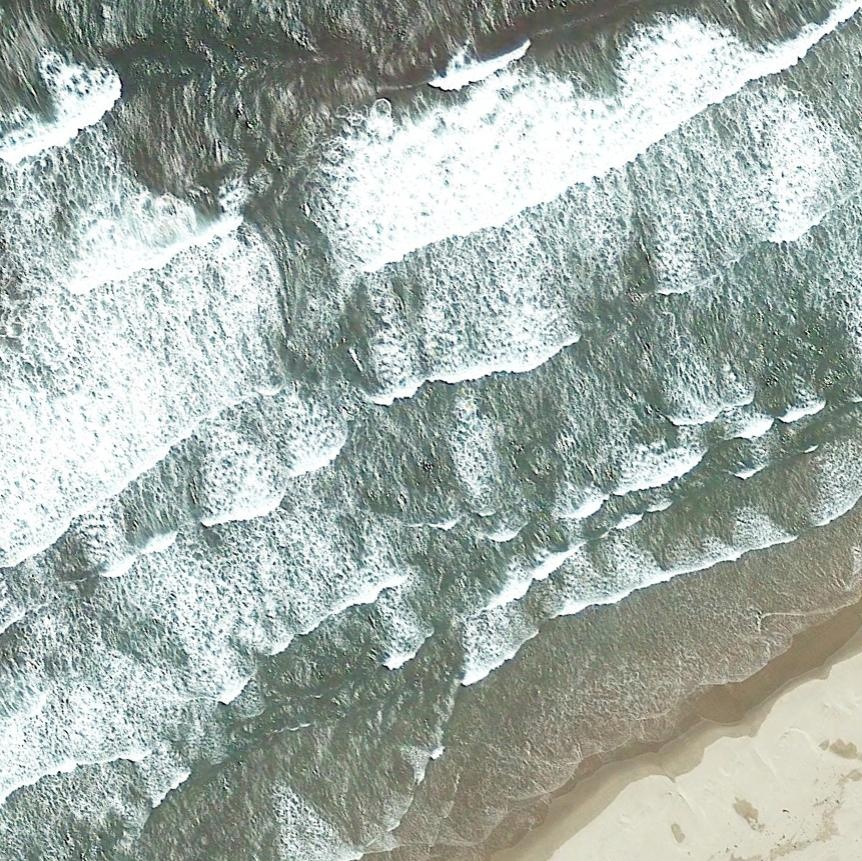rip_current: (222, 192, 518, 635)
